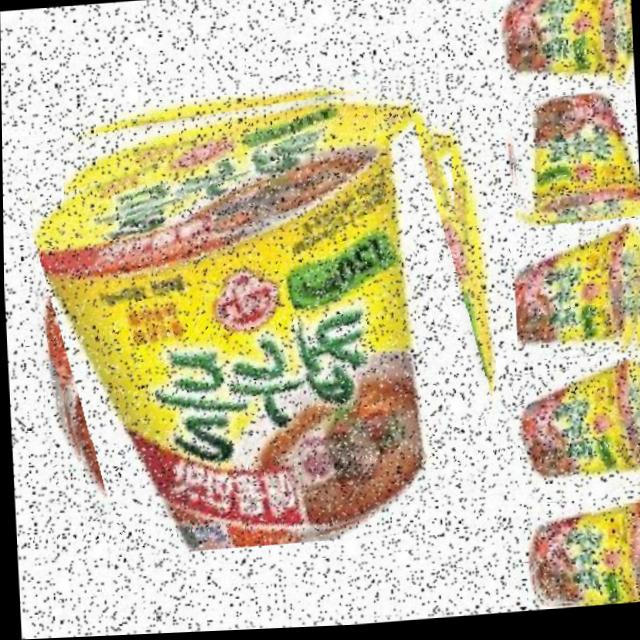Miscellaneous: (22, 74, 501, 564), (508, 364, 640, 508), (506, 91, 640, 232), (510, 228, 640, 366), (496, 0, 634, 99), (523, 501, 640, 615)
